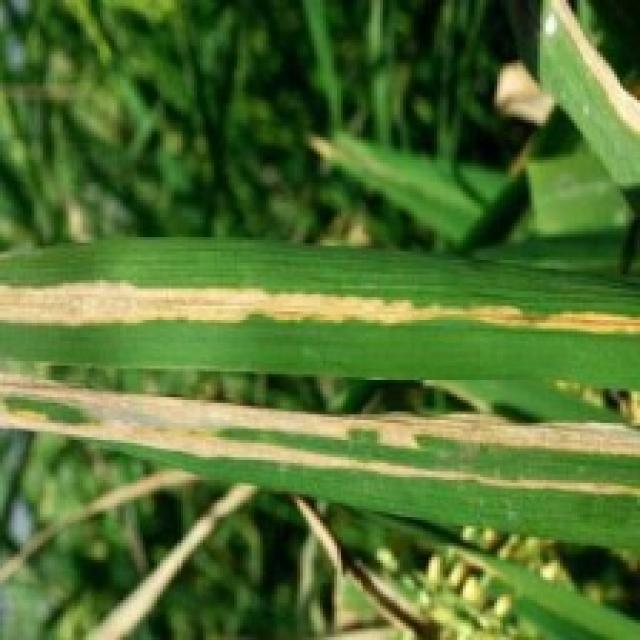Rice___Bacterial_Leaf_Blight: (0, 371, 637, 557), (0, 236, 637, 392)
